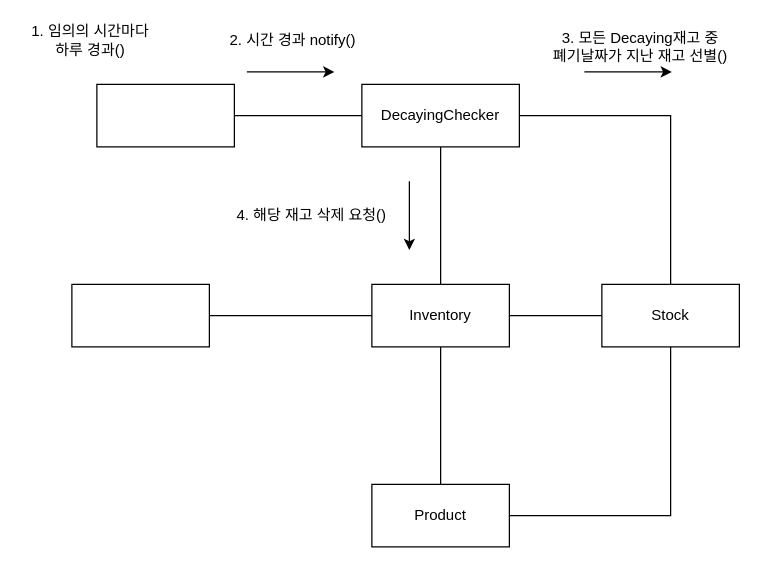
The diagram is 768 pixels wide and 569 high, and some of its shapes have lost their labels. Each missing label, with the centre of its shape:
Shop: the point at 140,315
TimeSimulator: the point at 165,115
